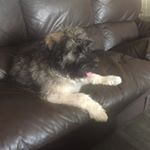puppy: (1, 19, 125, 125)
